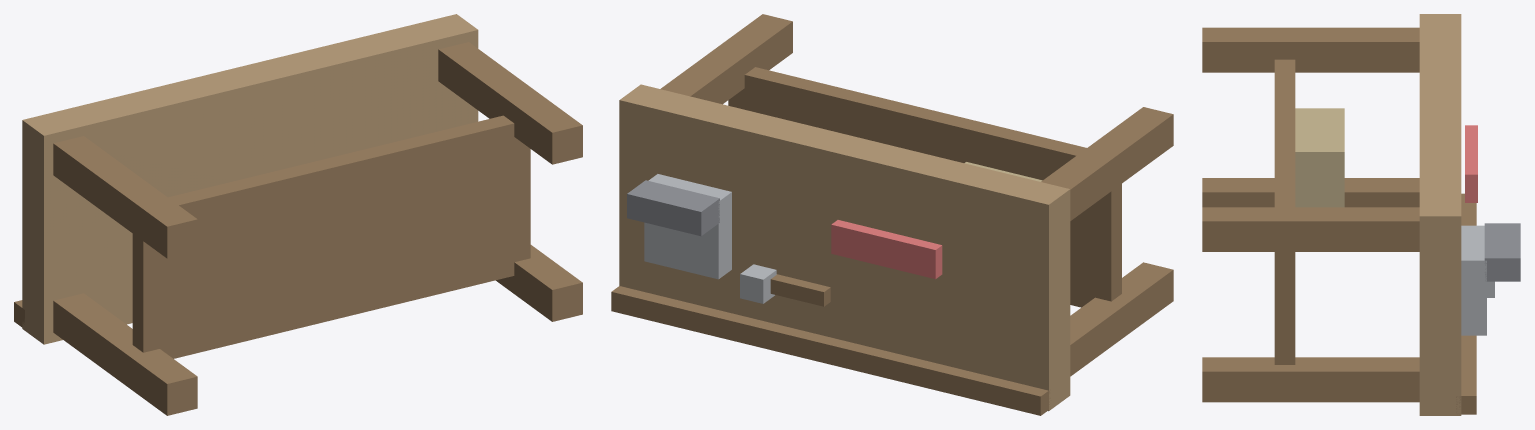
File: workbench.glb
The picture shows the model from 3 angles, left to right: view 1: azimuth 30°, elevation 25°; view 2: azimuth 150°, elevation 25°; view 3: azimuth 270°, elevation 25°; orthographic projection. The views are drawn at different scales.
Visible parts, largest first — view 1: Shelf, Top, Leg_-0.82_0.32, Leg_0.82_0.32, Leg_-0.82_-0.32, Leg_0.82_-0.32; view 2: Top, Shelf, BackLedge, Leg_-0.82_0.32, Leg_-0.82_-0.32, Leg_0.82_0.32, ViceBase, Tool, ViceJaw, HammerH, HammerT; view 3: Top, Leg_0.82_-0.32, Leg_0.82_0.32, Leg_-0.82_0.32, Shelf, Box, Leg_-0.82_-0.32, ViceBase, ViceJaw, BackLedge, Tool.
Part boxes in pixels (left/top/right/bottom): Shelf: left=132, top=115, right=530, bottom=358; Top: left=22, top=14, right=478, bottom=344; Leg_-0.82_0.32: left=53, top=136, right=197, bottom=258; Leg_0.82_0.32: left=438, top=42, right=582, bottom=164; Leg_-0.82_-0.32: left=53, top=293, right=197, bottom=415; Leg_0.82_-0.32: left=496, top=245, right=582, bottom=321; Top: left=619, top=84, right=1070, bottom=411; Shelf: left=728, top=67, right=1121, bottom=307; BackLedge: left=611, top=286, right=1050, bottom=415; Leg_-0.82_0.32: left=1041, top=107, right=1173, bottom=220; Leg_-0.82_-0.32: left=1070, top=262, right=1173, bottom=376; Leg_0.82_0.32: left=660, top=14, right=792, bottom=104; ViceBase: left=644, top=174, right=731, bottom=279; Tool: left=831, top=220, right=942, bottom=279; ViceJaw: left=627, top=180, right=719, bottom=236; HammerH: left=770, top=274, right=830, bottom=306; HammerT: left=740, top=264, right=776, bottom=303; Top: left=1419, top=14, right=1461, bottom=415; Leg_0.82_-0.32: left=1202, top=357, right=1419, bottom=402; Leg_0.82_0.32: left=1202, top=207, right=1419, bottom=251; Leg_-0.82_0.32: left=1202, top=27, right=1419, bottom=72; Shelf: left=1274, top=59, right=1295, bottom=364; Box: left=1295, top=108, right=1344, bottom=207; Leg_-0.82_-0.32: left=1202, top=178, right=1419, bottom=207; ViceBase: left=1461, top=225, right=1486, bottom=335; ViceJaw: left=1484, top=223, right=1520, bottom=281; BackLedge: left=1456, top=193, right=1476, bottom=414; Tool: left=1465, top=125, right=1477, bottom=202.
Size of the model in its own units: 1.85 by 0.85 by 1.23.
